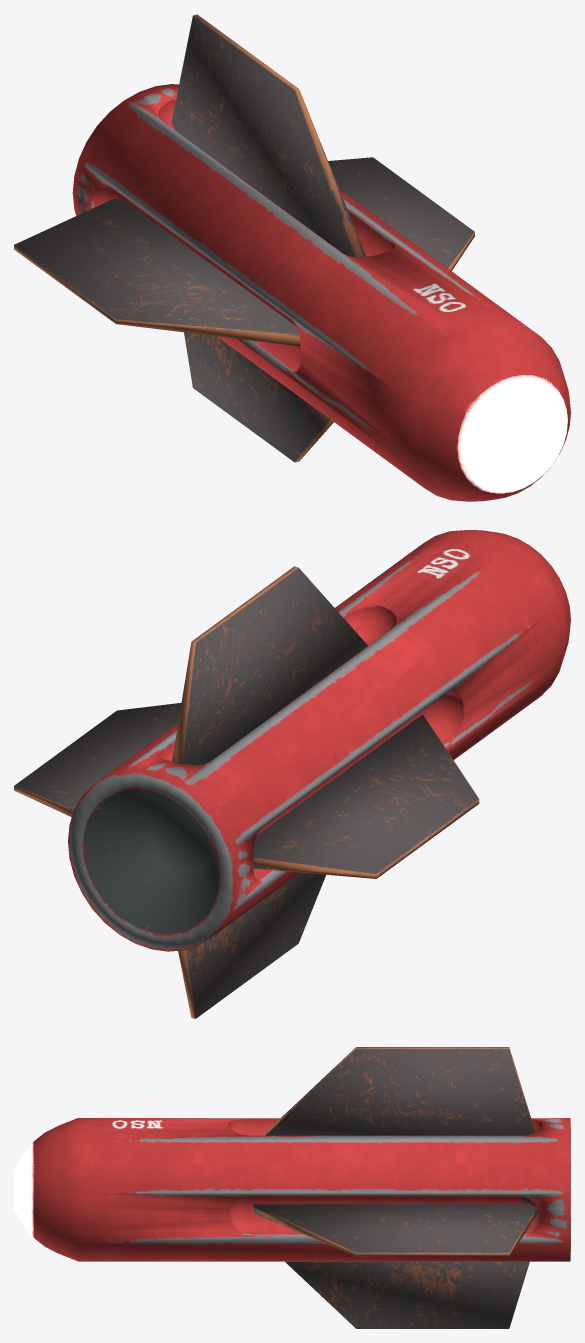
Rendered from missile.glb.
The picture shows the model from 3 angles, top to bottom: view 1: azimuth 30°, elevation 25°; view 2: azimuth 150°, elevation 25°; view 3: azimuth 270°, elevation 25°; orthographic projection. The views are drawn at different scales.
Visible parts, largest first — view 1: missile; view 2: missile; view 3: missile.
Boxes of the visible parts, x1,y1,x2,y2 form: missile: [14, 14, 570, 501]; missile: [14, 530, 570, 1018]; missile: [14, 1047, 570, 1328].
Bounding box in the file's own units: 4.51 × 4.47 × 8.06.
Materials: 1 (1 with a texture image).
